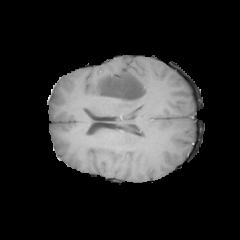glioma: (87, 69, 149, 160)
